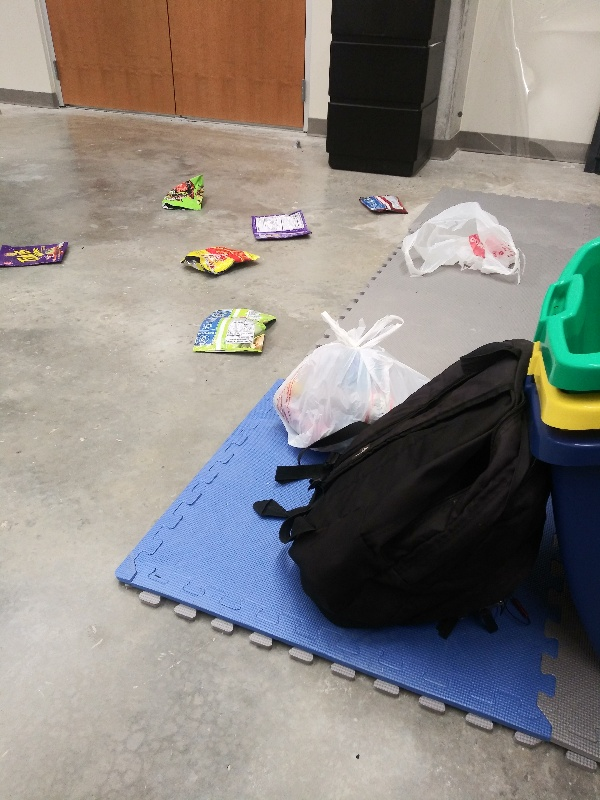bag: (187, 302, 280, 363), (174, 243, 275, 279), (154, 169, 220, 214), (244, 206, 315, 245), (1, 238, 73, 271), (353, 189, 412, 220)
